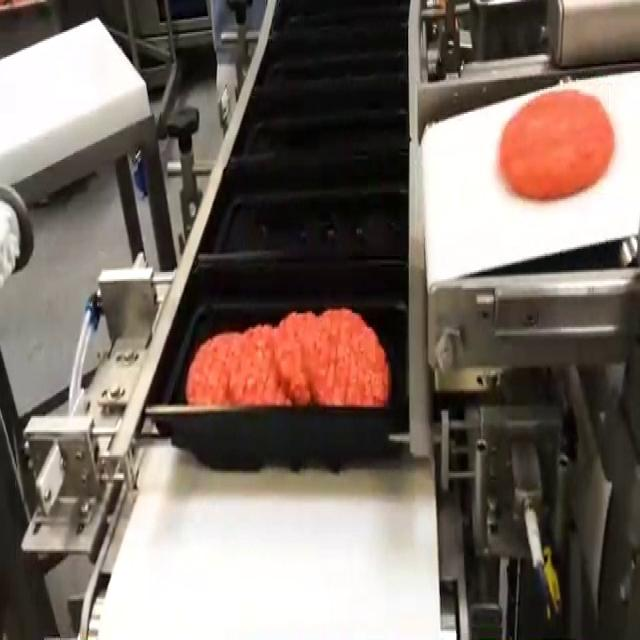4-hamburguer: (188, 308, 389, 405)
